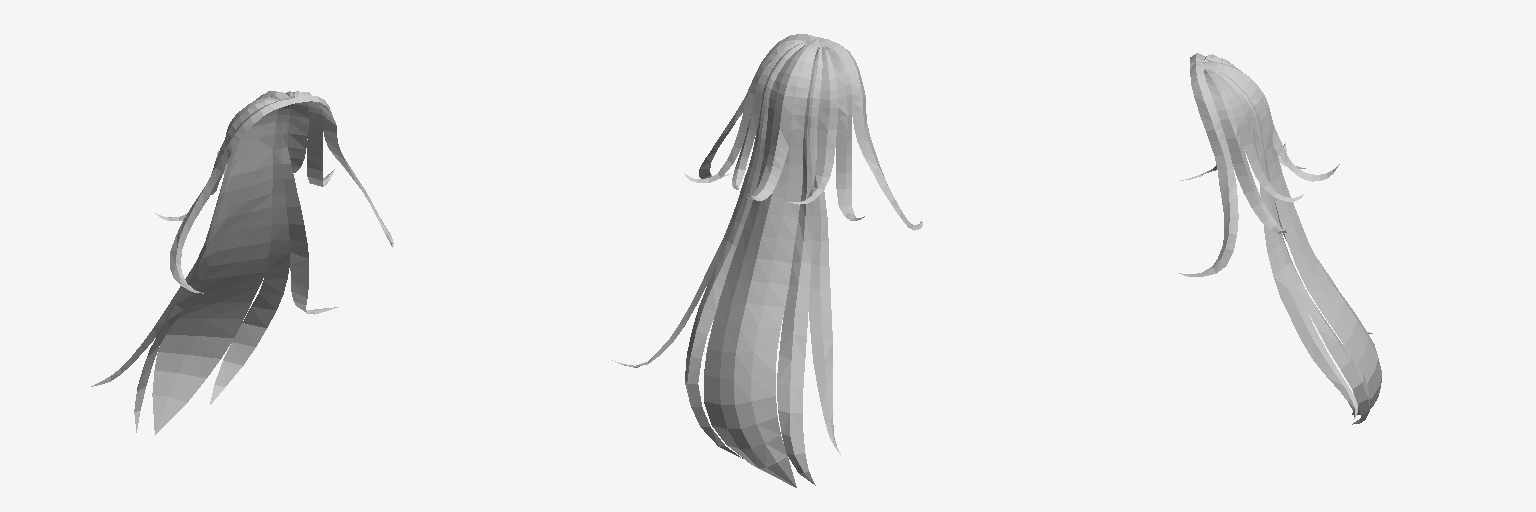
The model's file is g11 Hair5.obj.
The picture shows the model from 3 angles: view 1: azimuth 30°, elevation 25°; view 2: azimuth 150°, elevation 25°; view 3: azimuth 270°, elevation 25°; orthographic projection.
Parts seen in each view (by area): view 1: H_Back_0_mtr_G11_V100.027; view 2: H_Back_0_mtr_G11_V100.027; view 3: H_Back_0_mtr_G11_V100.027.
Part boxes in pixels (left/top/right/bottom): H_Back_0_mtr_G11_V100.027: left=91, top=91, right=393, bottom=434; H_Back_0_mtr_G11_V100.027: left=612, top=34, right=922, bottom=487; H_Back_0_mtr_G11_V100.027: left=1179, top=53, right=1381, bottom=424.
Bounding box in the file's own units: 0.4486 × 0.6812 × 0.332.